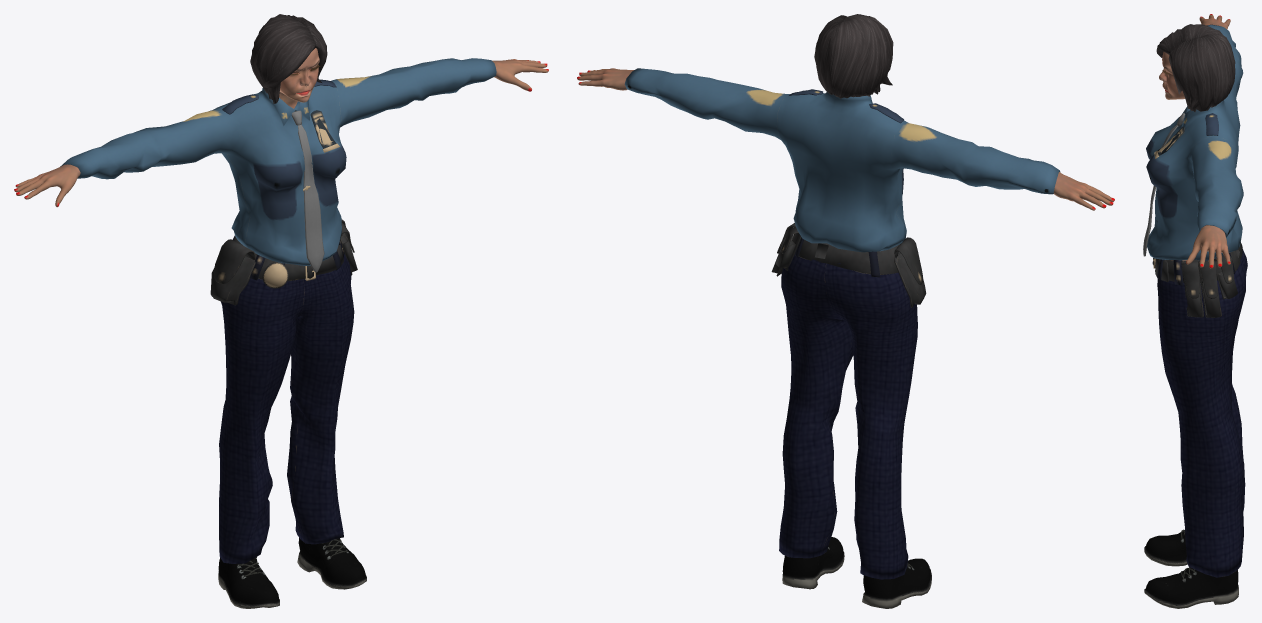
Rendered from SecuritySarahModel.obj.
3 renders of one model, left to right at view 1: azimuth 30°, elevation 25°; view 2: azimuth 150°, elevation 25°; view 3: azimuth 270°, elevation 25°, orthographic. The views are drawn at different scales.
Parts seen in each view (by area): view 1: Bottoms, Tops, Shoes, Hair, Body; view 2: Bottoms, Tops, Hair, Shoes, Body; view 3: Bottoms, Tops, Hair, Shoes, Body.
Boxes of the visible parts, x1,y1,x2,y2 form: Bottoms: (210,219,357,563); Tops: (60,58,496,272); Shoes: (218,538,366,608); Hair: (250,14,327,103); Body: (14,48,548,207); Bottoms: (771,223,926,579); Tops: (624,68,1060,252); Hair: (814,14,893,98); Shoes: (782,537,931,608); Body: (577,68,1114,210); Bottoms: (1152,242,1247,577); Tops: (1143,24,1243,260); Hair: (1156,24,1235,111); Shoes: (1144,529,1238,608); Body: (1159,14,1230,268).
Size of the model in its own units: 178 by 181 by 31.12.
Materials: 1 (1 with a texture image).
